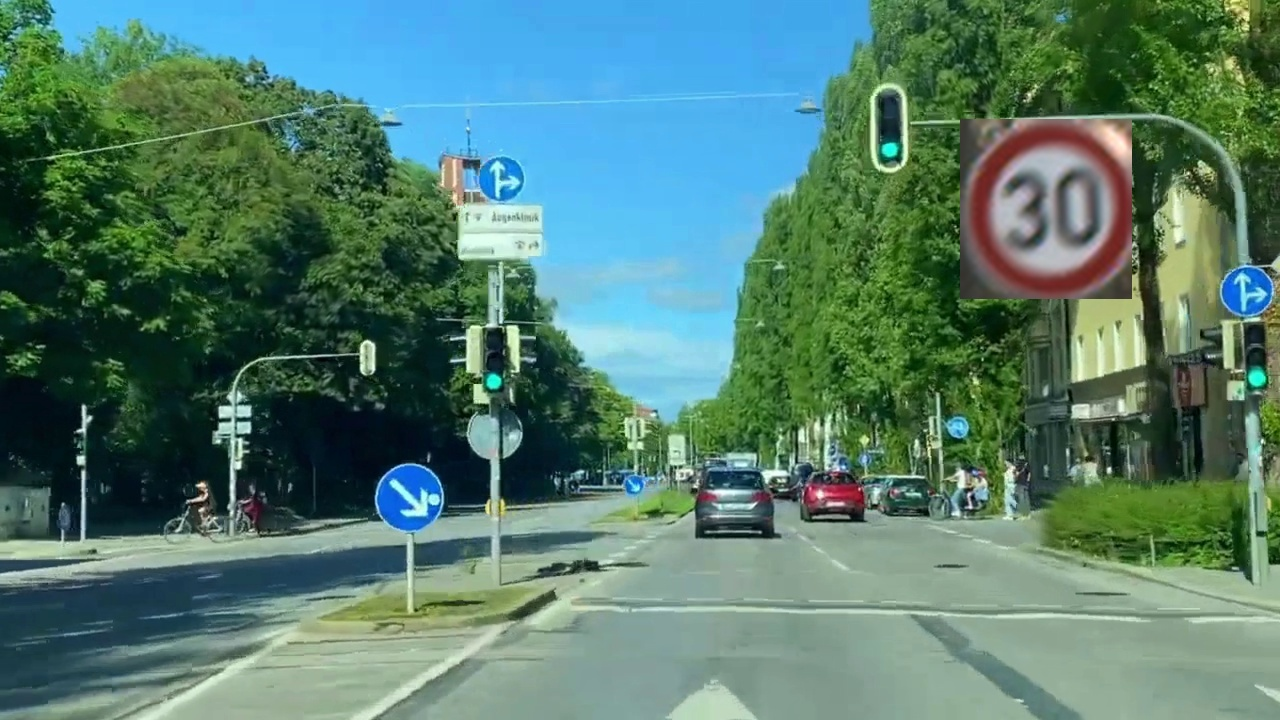Speed 30: (960, 119, 1132, 299)
